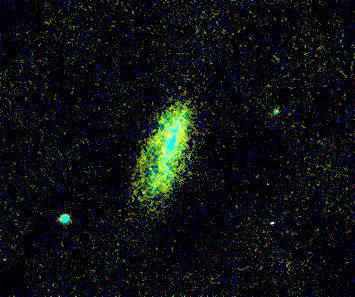star: (143, 108, 173, 138)
